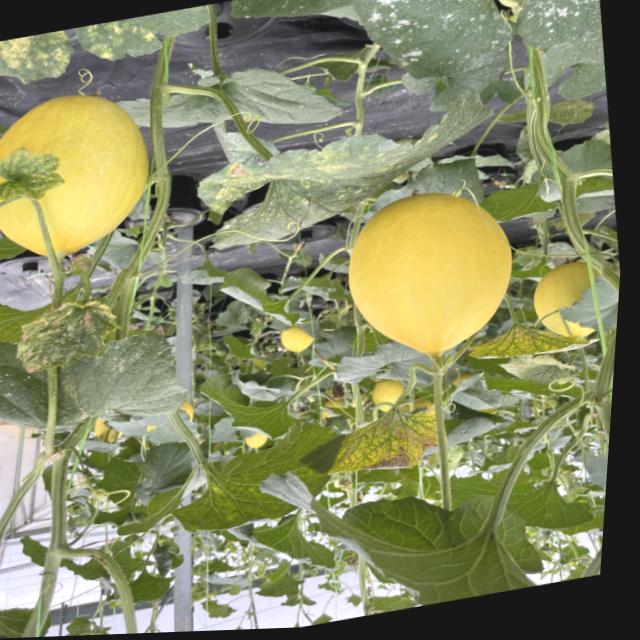SLCV: (5, 293, 136, 378), (329, 406, 445, 482)
downy mildew: (186, 96, 505, 253), (0, 3, 225, 98), (466, 303, 603, 367)
powdery mildew: (334, 0, 609, 103)
